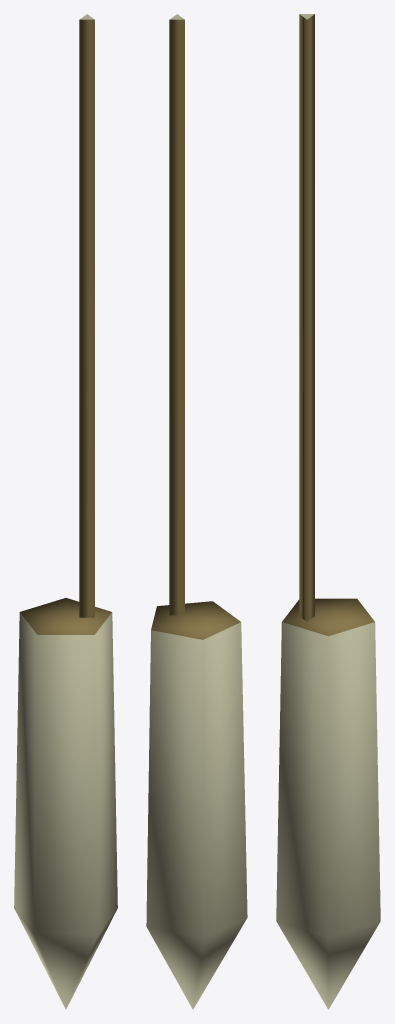
The model's file is rocket.gltf.
3 renders of one model, left to right at view 1: azimuth 90°, elevation 25°; view 2: azimuth 210°, elevation 25°; view 3: azimuth 270°, elevation 25°, orthographic.
Parts seen in each view (by area): view 1: rocket_atomic0; view 2: rocket_atomic0; view 3: rocket_atomic0.
Part boxes in pixels (x1,y1,x2,y2): rocket_atomic0: (14, 14, 117, 1009); rocket_atomic0: (146, 14, 247, 1009); rocket_atomic0: (276, 14, 380, 1009).
Size of the model in its own units: 0.1444 by 1.6 by 0.1519.
